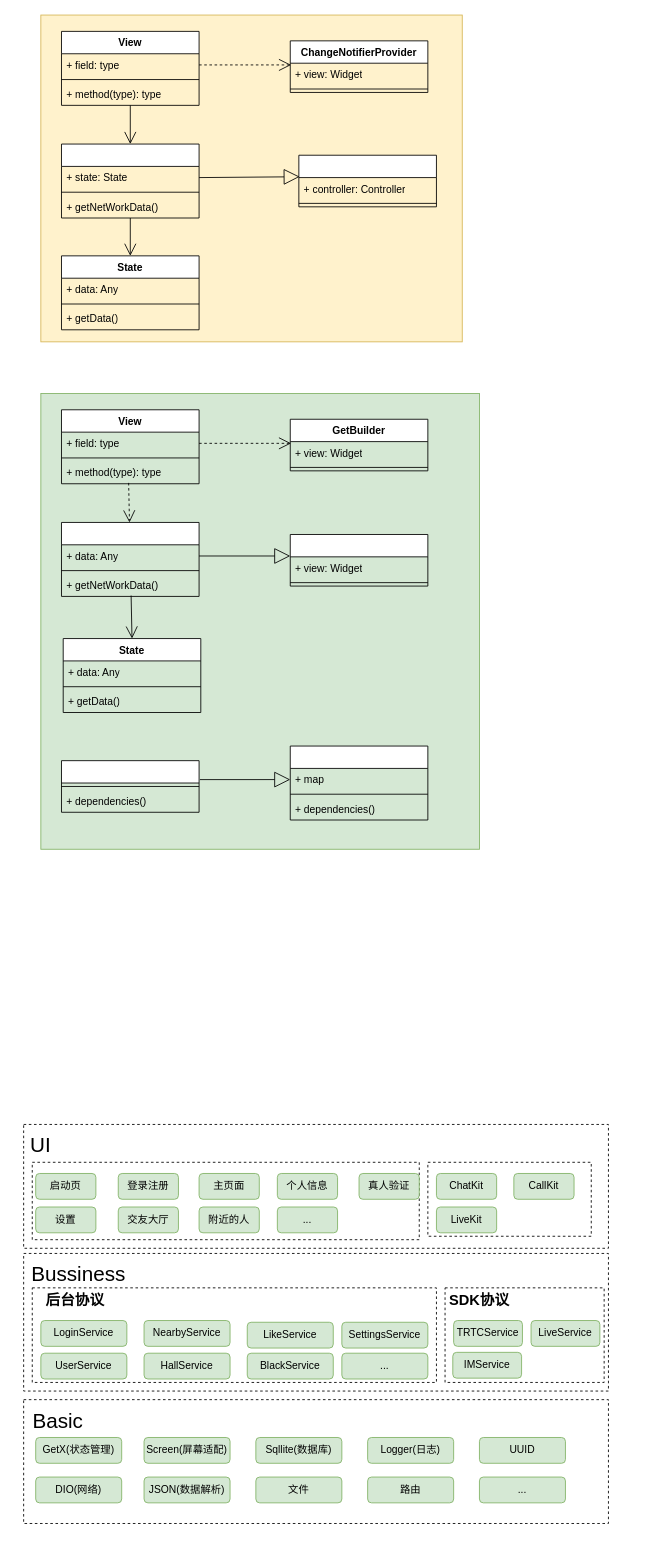
Image size: 649x1561. Some labels were removed from this diagram. The box of each missing label's shape, as (x1, y1, x2, y2) in pixels:
Bindngs: (289, 745, 428, 820)
ChangeNotifer: (298, 154, 436, 207)
GetxController: (289, 534, 428, 586)
ViewBinging: (61, 760, 199, 812)
ViewController: (61, 522, 199, 596)
ViewModel: (61, 143, 199, 218)
